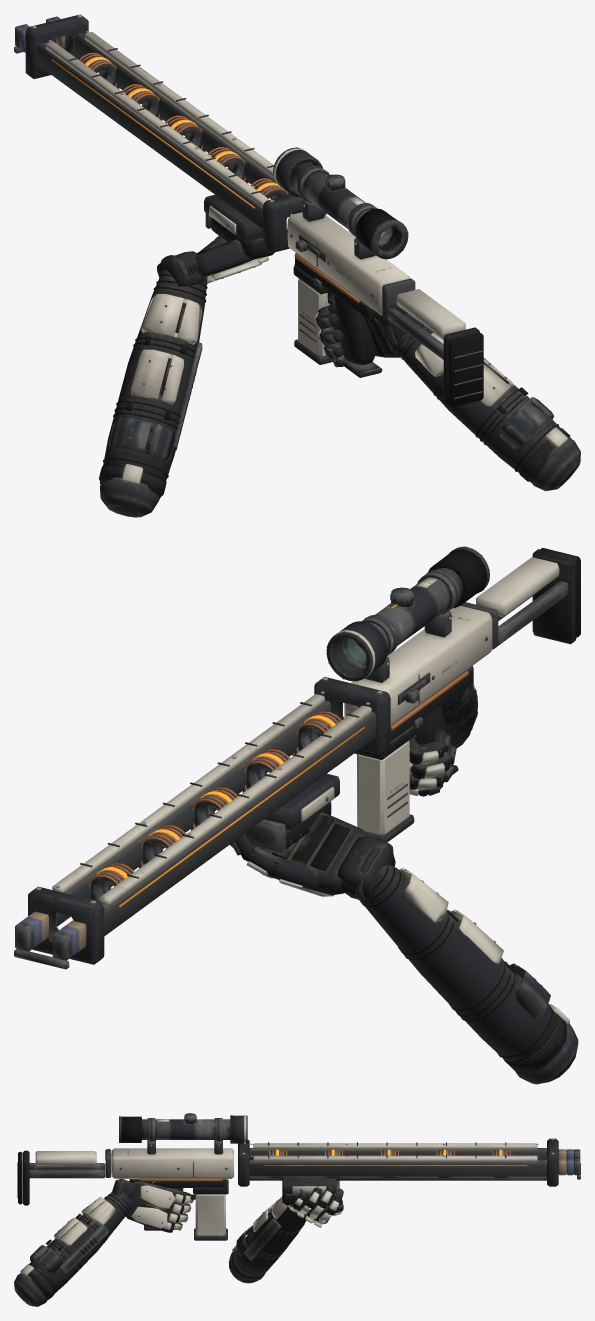
The model's file is rail.glb.
The picture shows the model from 3 angles, top to bottom: view 1: azimuth 30°, elevation 25°; view 2: azimuth 150°, elevation 25°; view 3: azimuth 270°, elevation 25°; orthographic projection. The views are drawn at different scales.
Parts seen in each view (by area): view 1: body, arm_l, arm_r, rail_world, mag; view 2: body, arm_l, rail_world, mag, arm_r; view 3: body, arm_r, rail_world, arm_l, mag.
Part boxes in pixels (bbox=[...]): body: bbox=[14, 14, 483, 407]; arm_l: bbox=[99, 223, 287, 517]; arm_r: bbox=[314, 303, 580, 491]; rail_world: bbox=[14, 19, 481, 406]; mag: bbox=[294, 279, 333, 364]; body: bbox=[14, 546, 580, 969]; arm_l: bbox=[230, 812, 578, 1084]; rail_world: bbox=[14, 546, 580, 969]; mag: bbox=[357, 741, 414, 842]; arm_r: bbox=[409, 681, 477, 796]; body: bbox=[17, 1113, 580, 1230]; arm_r: bbox=[14, 1178, 193, 1306]; rail_world: bbox=[20, 1113, 580, 1240]; arm_l: bbox=[229, 1185, 343, 1283]; mag: bbox=[194, 1194, 227, 1240].
Bounding box in the file's own units: 0.4777 × 0.4905 × 1.17.
4 materials, 1 textured.
